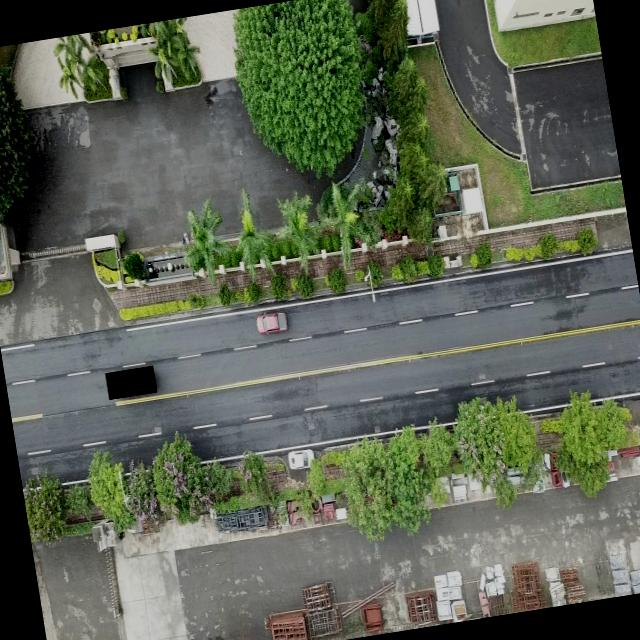car: (284, 442, 317, 478), (254, 308, 288, 336)
